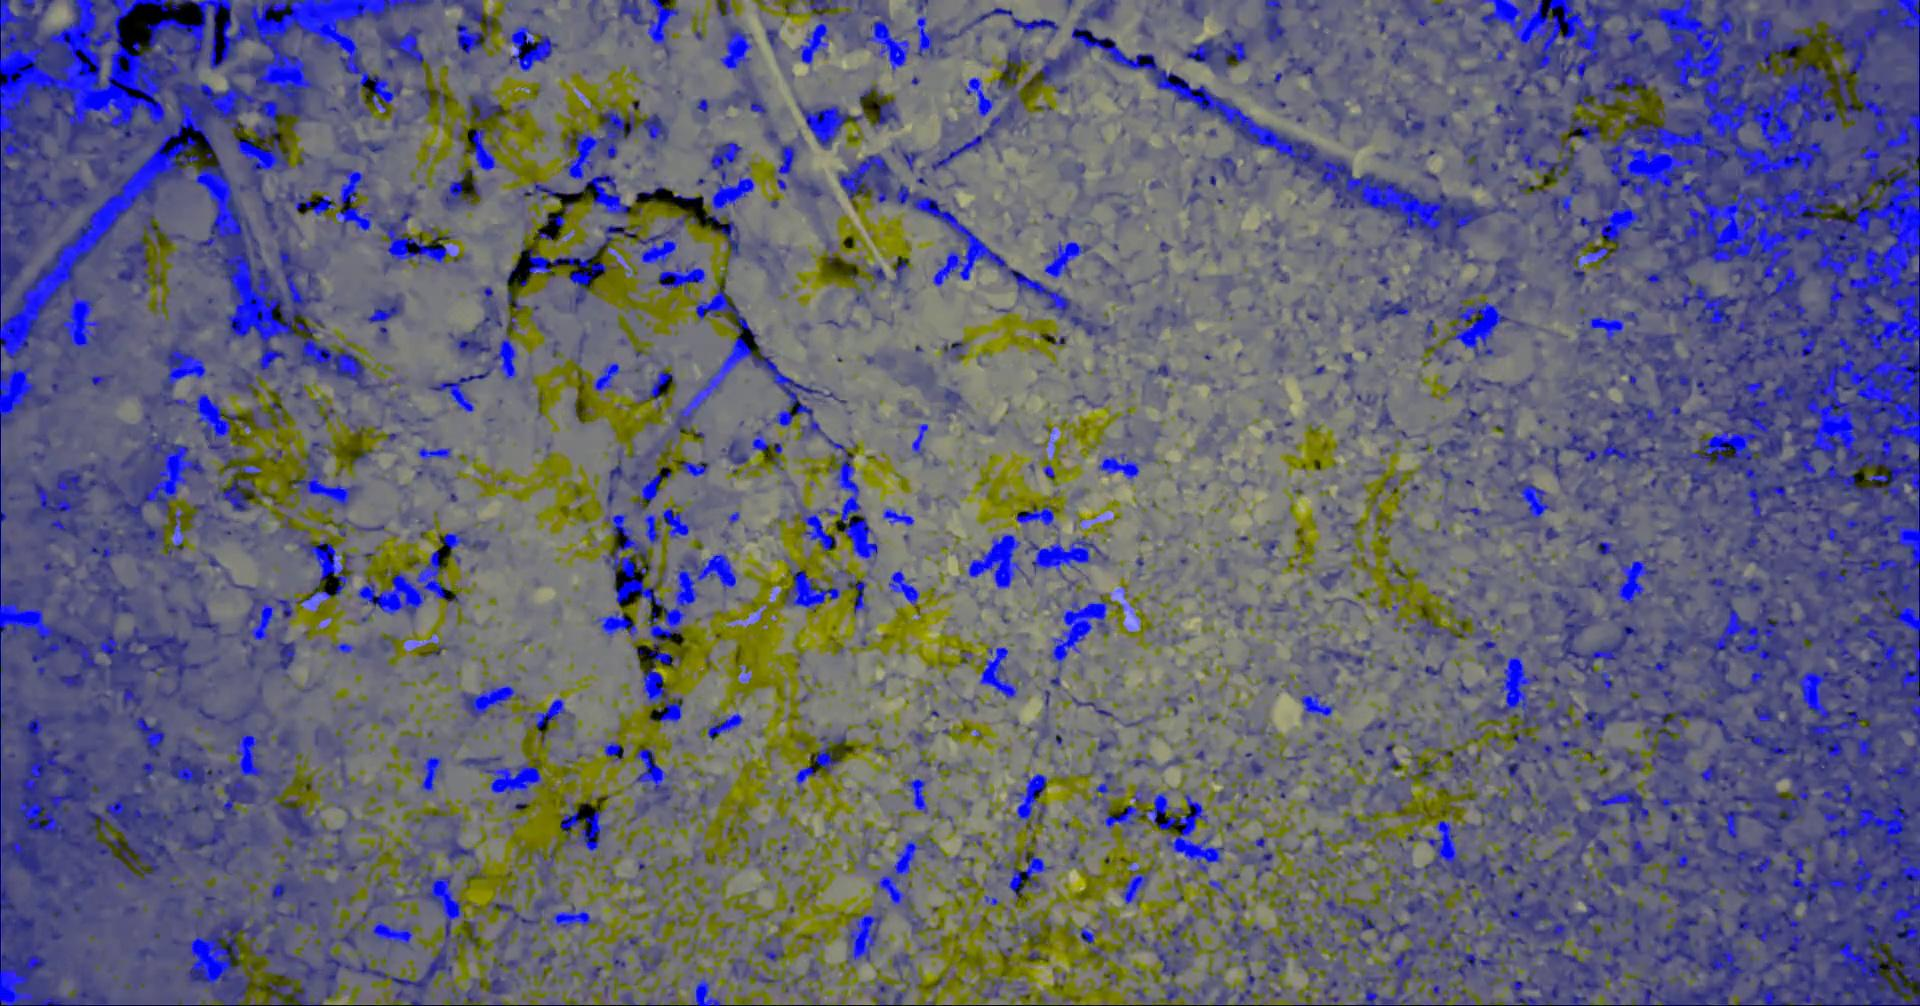ant: (632, 345, 677, 409), (413, 439, 457, 500), (437, 165, 495, 211), (521, 699, 574, 748), (1003, 771, 1046, 832), (871, 951, 918, 1005), (359, 291, 403, 344), (1343, 387, 1394, 431), (329, 634, 397, 666), (979, 647, 1017, 699), (1229, 835, 1272, 880), (1040, 240, 1091, 277), (408, 742, 444, 793), (437, 528, 489, 564), (1120, 859, 1159, 906), (1064, 921, 1109, 960), (1316, 644, 1371, 674), (634, 180, 703, 203), (1138, 304, 1186, 337), (809, 730, 846, 774), (1308, 779, 1356, 810), (728, 956, 782, 984), (1441, 676, 1486, 710), (1299, 680, 1335, 721), (281, 678, 324, 711), (750, 429, 783, 470), (335, 392, 367, 434), (1211, 151, 1248, 185), (342, 702, 394, 727), (590, 610, 637, 636), (1356, 716, 1387, 757), (1097, 452, 1139, 480), (701, 713, 743, 741), (888, 568, 919, 605), (1015, 503, 1058, 530), (1070, 695, 1117, 719), (996, 917, 1039, 942), (900, 362, 936, 392), (719, 437, 749, 473), (414, 640, 458, 664), (1343, 813, 1377, 845), (330, 517, 385, 536), (932, 387, 963, 420), (651, 904, 684, 935), (903, 777, 931, 813), (890, 141, 922, 171), (1523, 282, 1554, 312), (1309, 827, 1336, 862), (1234, 720, 1271, 746), (691, 976, 723, 1005), (791, 958, 819, 989), (309, 398, 335, 431), (593, 362, 622, 391), (1465, 569, 1493, 600), (753, 934, 783, 962), (570, 329, 589, 373), (1308, 865, 1335, 897), (888, 255, 909, 293), (582, 965, 604, 1001), (977, 976, 1011, 998), (985, 935, 1012, 964), (561, 940, 585, 972), (626, 860, 654, 887), (855, 838, 879, 868), (1185, 165, 1203, 205), (1335, 352, 1356, 384), (1178, 0, 1208, 23), (1313, 568, 1343, 589), (1037, 688, 1050, 739), (794, 766, 817, 794), (1279, 742, 1312, 761), (1241, 752, 1265, 777), (1412, 661, 1444, 680), (1368, 263, 1389, 290), (883, 508, 914, 526), (670, 793, 688, 824), (910, 423, 927, 456), (350, 447, 377, 467), (1343, 851, 1375, 868), (865, 265, 886, 290), (1228, 603, 1250, 627), (1224, 777, 1248, 799), (679, 459, 709, 476), (502, 259, 519, 287), (1200, 897, 1218, 925), (1138, 8, 1153, 39), (1068, 392, 1102, 406), (601, 741, 623, 761), (764, 25, 781, 53), (942, 340, 966, 359), (908, 730, 936, 746), (1156, 754, 1183, 770), (1073, 163, 1084, 199), (1410, 149, 1435, 165), (1261, 539, 1279, 561), (1211, 760, 1232, 779), (542, 211, 566, 226), (1343, 215, 1359, 239), (1145, 362, 1170, 377), (935, 179, 966, 191), (1095, 191, 1130, 201), (823, 318, 858, 328), (397, 507, 415, 527), (1389, 560, 1407, 580), (1271, 260, 1288, 282), (1473, 526, 1490, 547), (662, 983, 678, 1005), (1128, 754, 1156, 767), (853, 285, 869, 307), (1250, 163, 1269, 180), (1058, 113, 1078, 130), (1093, 254, 1114, 271), (696, 492, 716, 508), (1352, 633, 1373, 649), (945, 854, 974, 865), (899, 401, 921, 417), (1375, 147, 1401, 160), (800, 987, 818, 1005), (604, 865, 621, 884), (1291, 297, 1304, 321), (1420, 318, 1434, 339), (1209, 413, 1224, 432), (1068, 843, 1083, 862), (1057, 216, 1070, 236), (698, 786, 712, 807), (1326, 668, 1338, 690), (874, 746, 895, 758), (1114, 203, 1130, 220), (1265, 221, 1281, 238), (151, 301, 168, 318), (1012, 981, 1029, 997), (1331, 521, 1357, 531), (1163, 696, 1178, 714), (434, 85, 444, 111), (824, 236, 834, 262), (1375, 241, 1389, 259), (359, 819, 381, 831), (1026, 948, 1048, 959), (1275, 779, 1288, 798), (1383, 475, 1397, 492), (1208, 879, 1224, 893), (618, 991, 635, 1005), (1180, 116, 1192, 133), (942, 116, 952, 137), (963, 835, 982, 846), (881, 354, 895, 370), (1217, 789, 1233, 801), (1420, 170, 1437, 182), (1043, 464, 1054, 481), (546, 998, 578, 1005), (1103, 970, 1117, 984), (1133, 141, 1145, 156), (1219, 276, 1232, 291), (550, 339, 560, 357), (1217, 558, 1227, 575), (1269, 601, 1286, 611), (1363, 46, 1375, 60), (1272, 345, 1286, 358), (726, 511, 739, 525), (1487, 607, 1500, 621), (1347, 423, 1359, 438), (1305, 311, 1321, 321), (983, 895, 999, 904), (1310, 365, 1324, 375), (960, 652, 971, 663)
